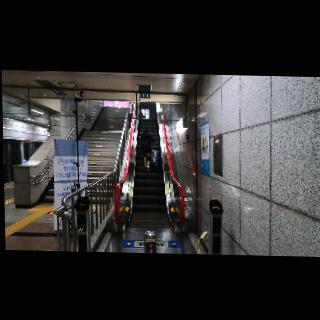normal: (137, 129, 157, 173)
